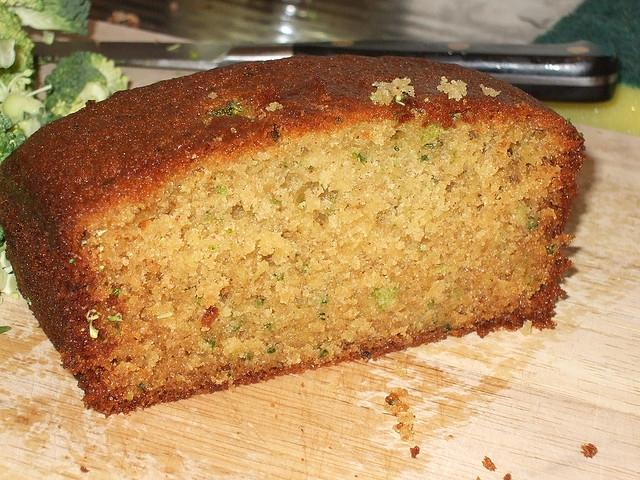broccoli: (0, 107, 62, 161), (212, 102, 247, 118)
